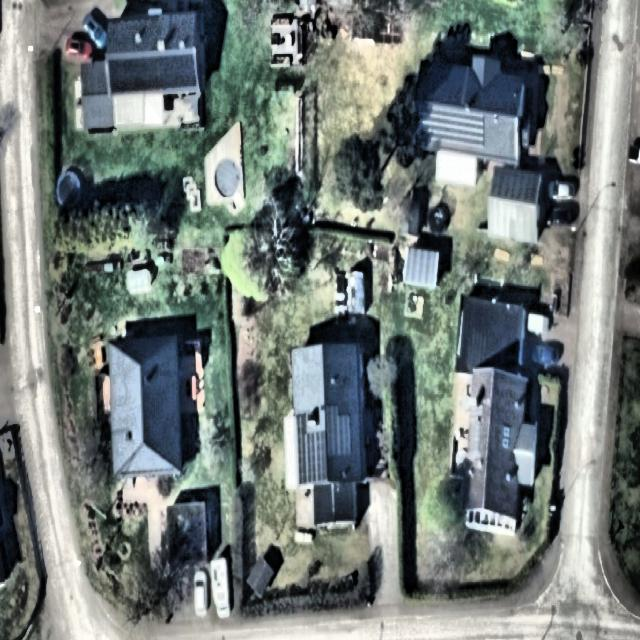roof_pv: (106, 52, 196, 94), (423, 106, 489, 148), (293, 433, 326, 486), (326, 402, 353, 460), (293, 411, 308, 435)
